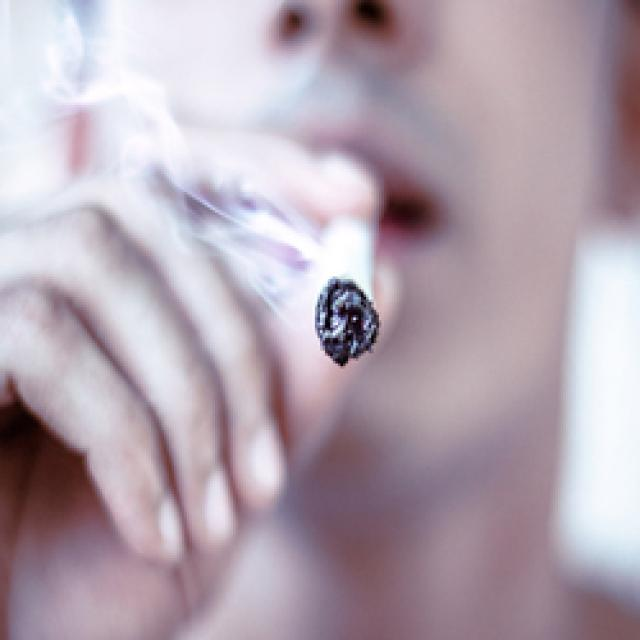Smooking: (293, 200, 396, 376)
